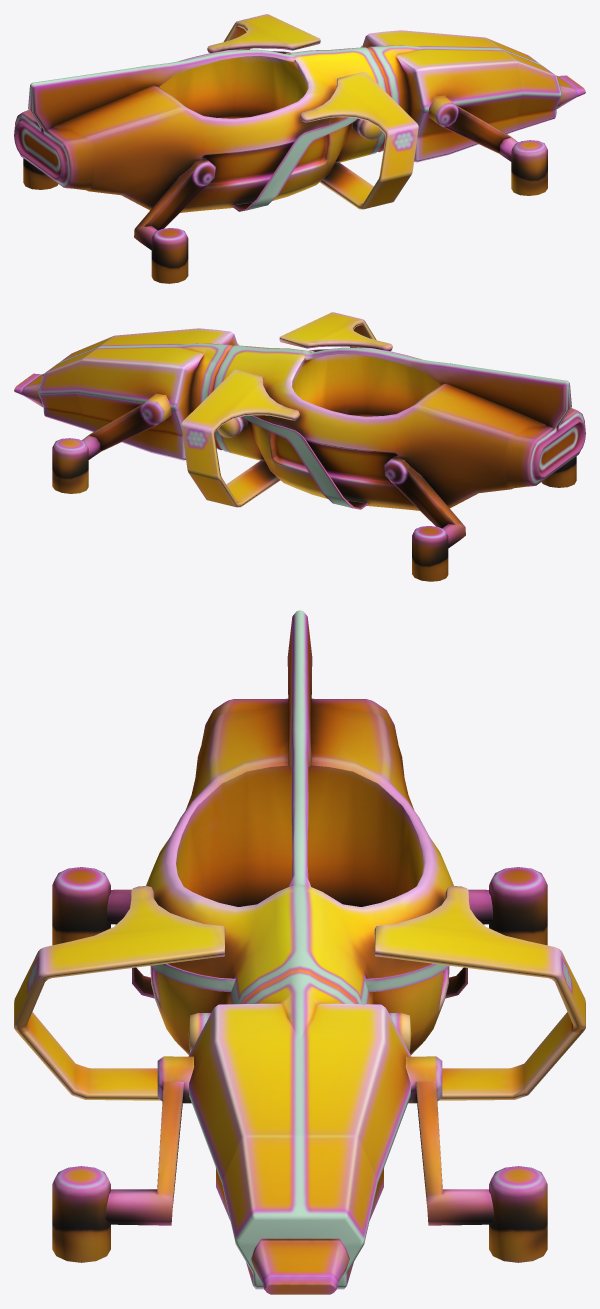
The model's file is f1_car_tron_10.dae.
3 renders of one model, top to bottom at view 1: azimuth 30°, elevation 25°; view 2: azimuth 150°, elevation 25°; view 3: azimuth 270°, elevation 25°, orthographic. The views are drawn at different scales.
Visible parts, largest first — view 1: Tron_Car; view 2: Tron_Car; view 3: Tron_Car.
Part boxes in pixels (box(x1,y1,x2,y2)): Tron_Car: box(14, 14, 585, 283); Tron_Car: box(14, 312, 585, 581); Tron_Car: box(14, 610, 585, 1294).
Bounding box in the file's own units: 0.2933 × 0.1566 × 0.0845.
1 material, 1 textured.
